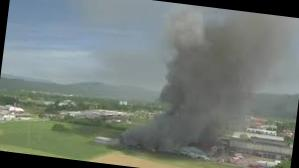Smoke: (108, 0, 297, 168)
